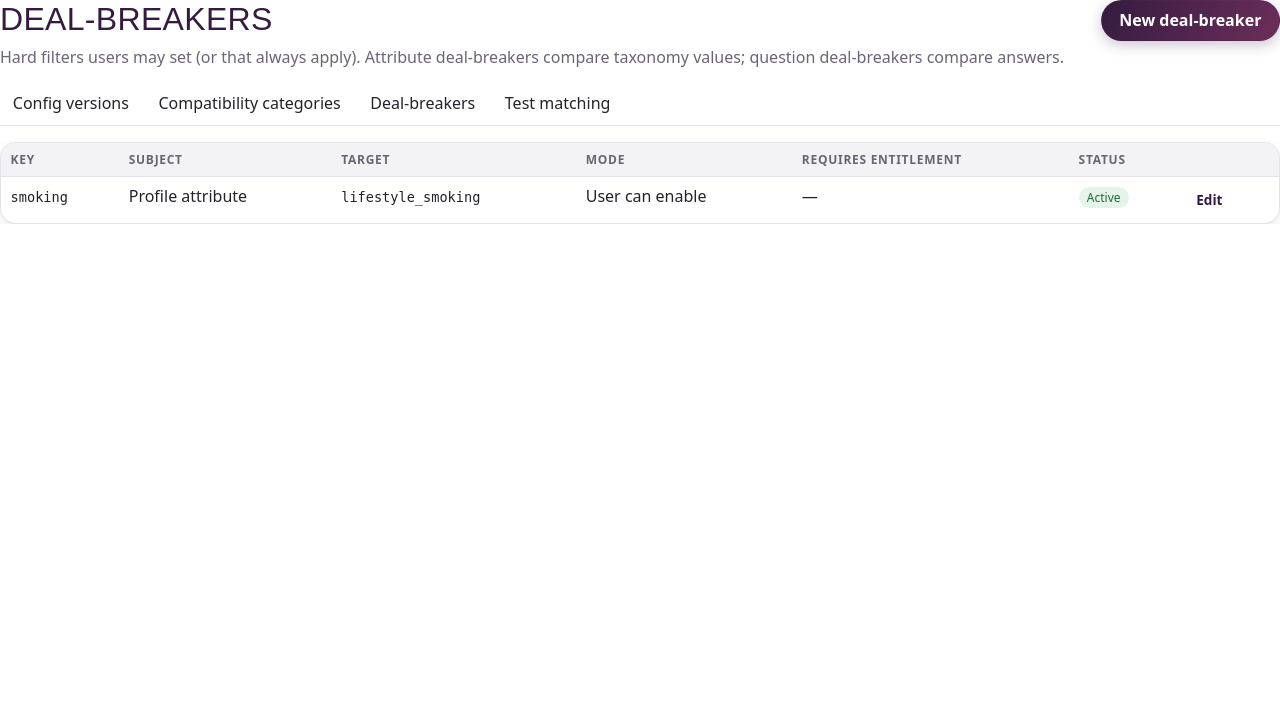
Test: DealBreakersPage › edits an attribute deal-breaker
Click the button "Edit" at (1209, 200), box [1186,185,1233,215]
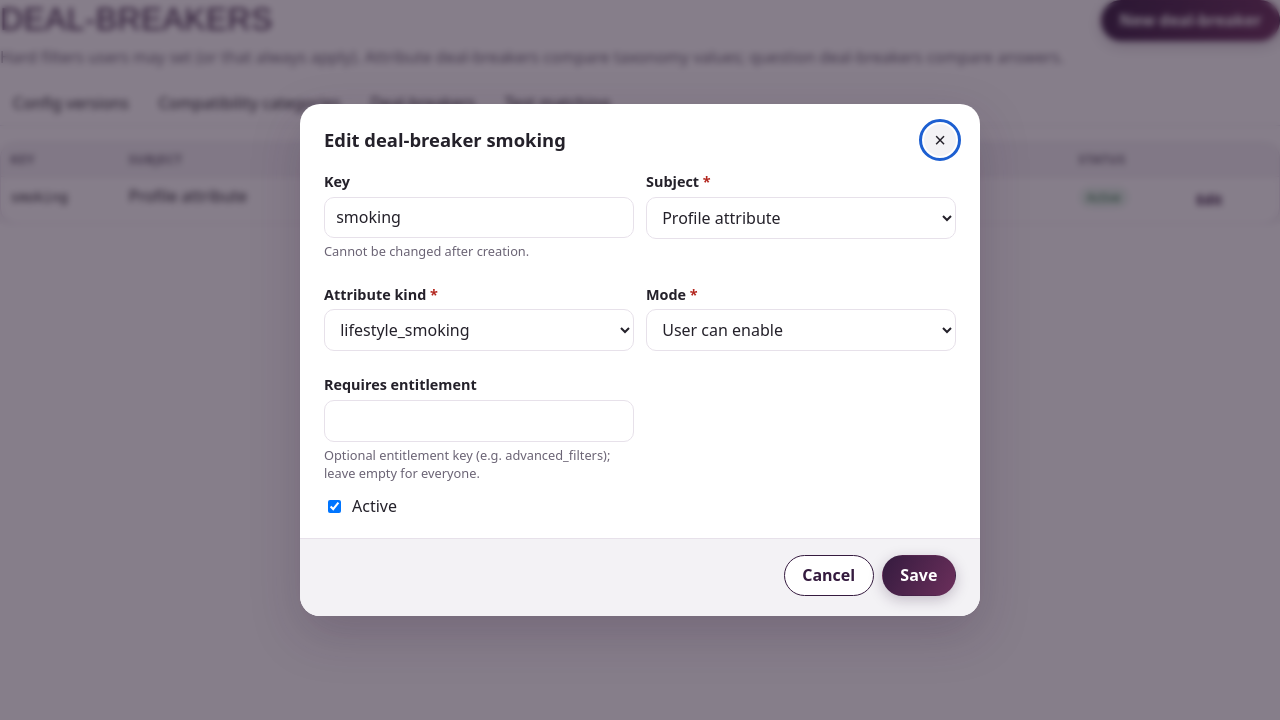
Select "lifestyle_cannabis" in the dropdown labelled "Attribute kind *" at (479, 330), box [324,310,634,352]
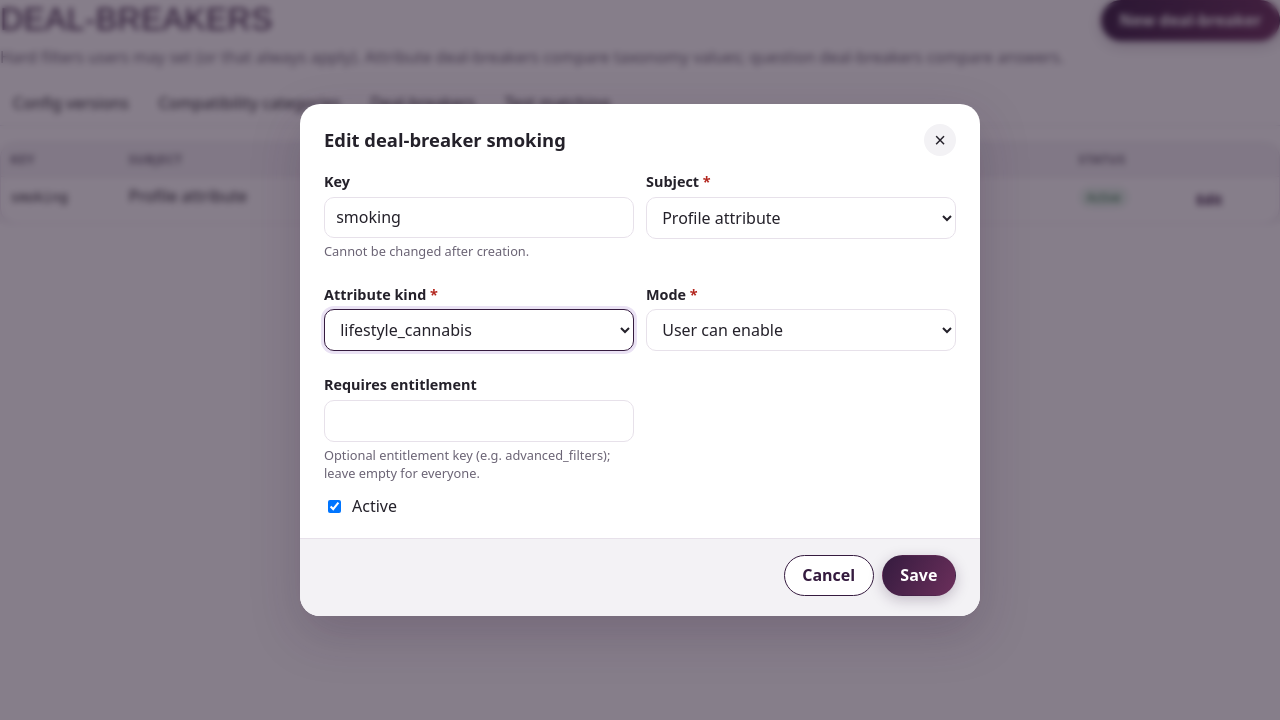
Click the button "Save" at (919, 575), box [882,555,956,596]
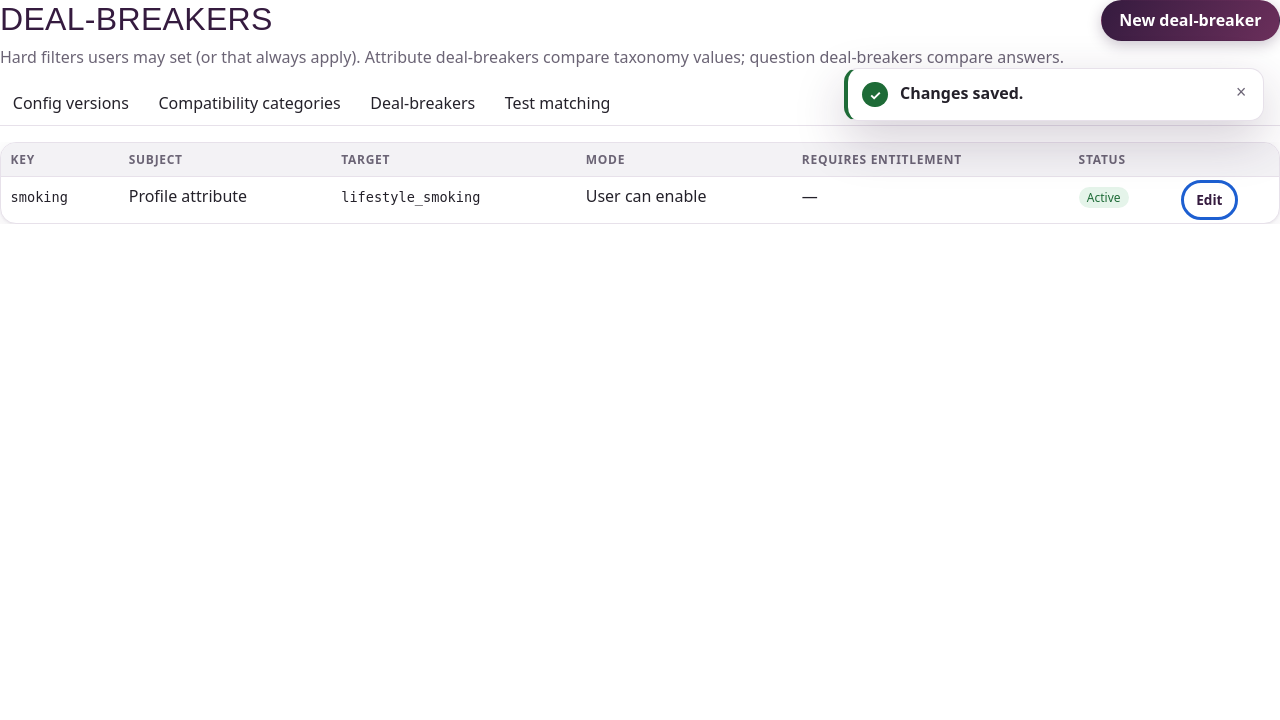
Now the text "Changes saved." is shown, box [900,82,1024,104]
